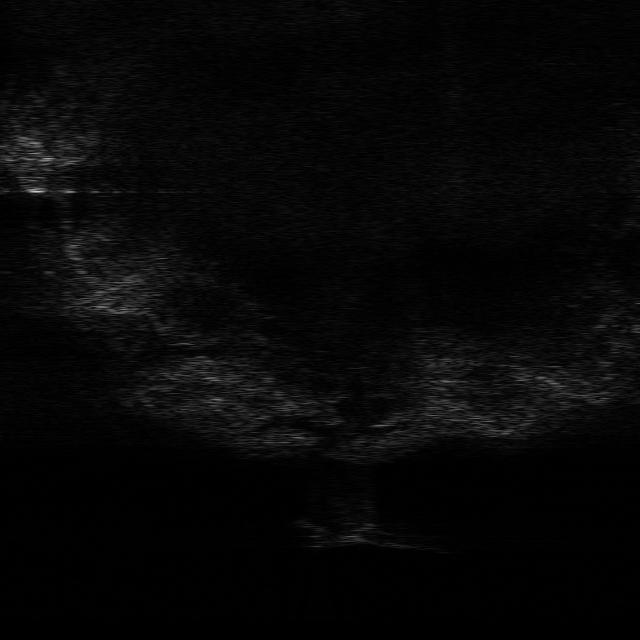plane: (298, 514, 422, 549)
